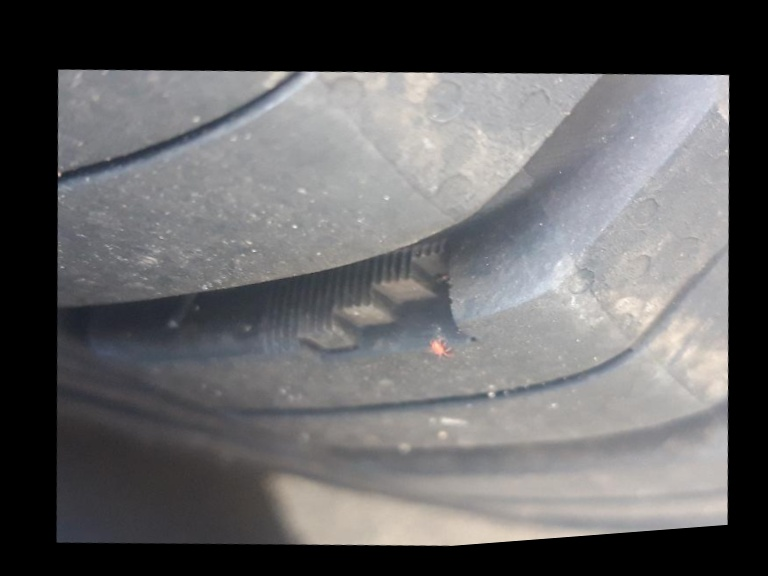temoin:80: (238, 212, 503, 398)
